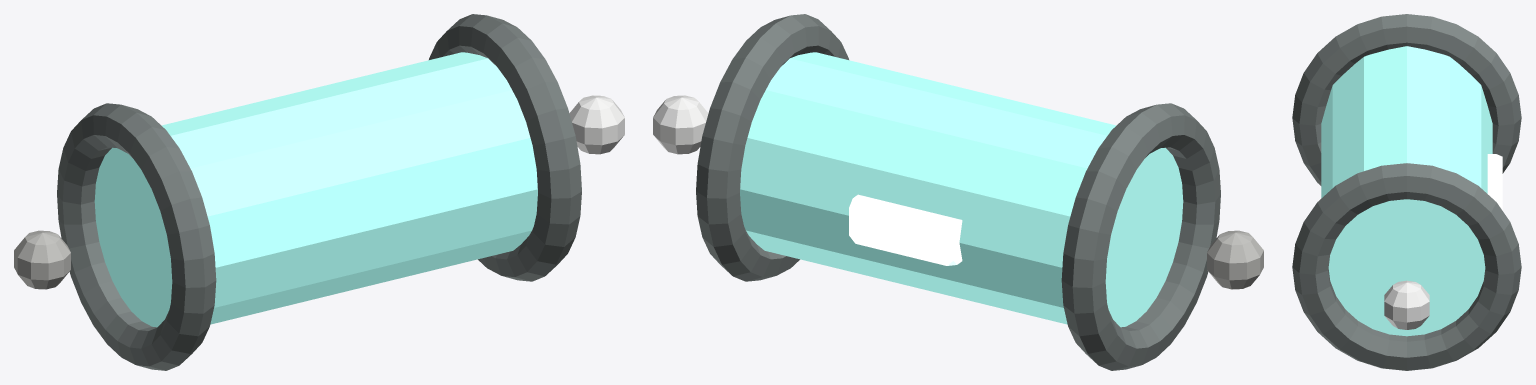
Rendered from record-token.glb.
The picture shows the model from 3 angles, left to right: view 1: azimuth 30°, elevation 25°; view 2: azimuth 150°, elevation 25°; view 3: azimuth 270°, elevation 25°; orthographic projection. The views are drawn at different scales.
Parts seen in each view (by area): view 1: Record_Core, Record_Left, Record_Right, Record_Origin, Record_Target; view 2: Record_Core, Record_Left, Record_Right, Record_Identity, Record_Origin, Record_Target; view 3: Record_Core, Record_Right, Record_Left, Record_Target, Record_Identity.
Boxes of the visible parts, x1,y1,x2,y2 form: Record_Core: (94,52,537,327); Record_Left: (57,103,216,370); Record_Right: (429,14,581,281); Record_Origin: (14,230,70,289); Record_Target: (569,95,624,154); Record_Core: (740,52,1183,327); Record_Left: (1061,103,1220,370); Record_Right: (696,14,848,281); Record_Identity: (849,194,962,265); Record_Origin: (1207,230,1263,289); Record_Target: (653,95,708,154); Record_Core: (1321,46,1492,336); Record_Right: (1292,163,1521,370); Record_Left: (1292,14,1521,185); Record_Target: (1384,280,1429,329); Record_Identity: (1487,154,1502,210).
Bounding box in the file's own units: 2.31 × 0.91 × 0.91.
